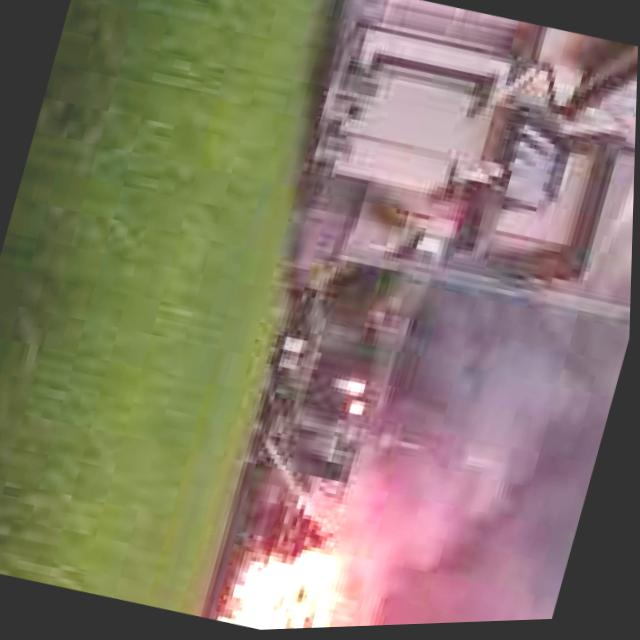smoke: (325, 188, 635, 630)
